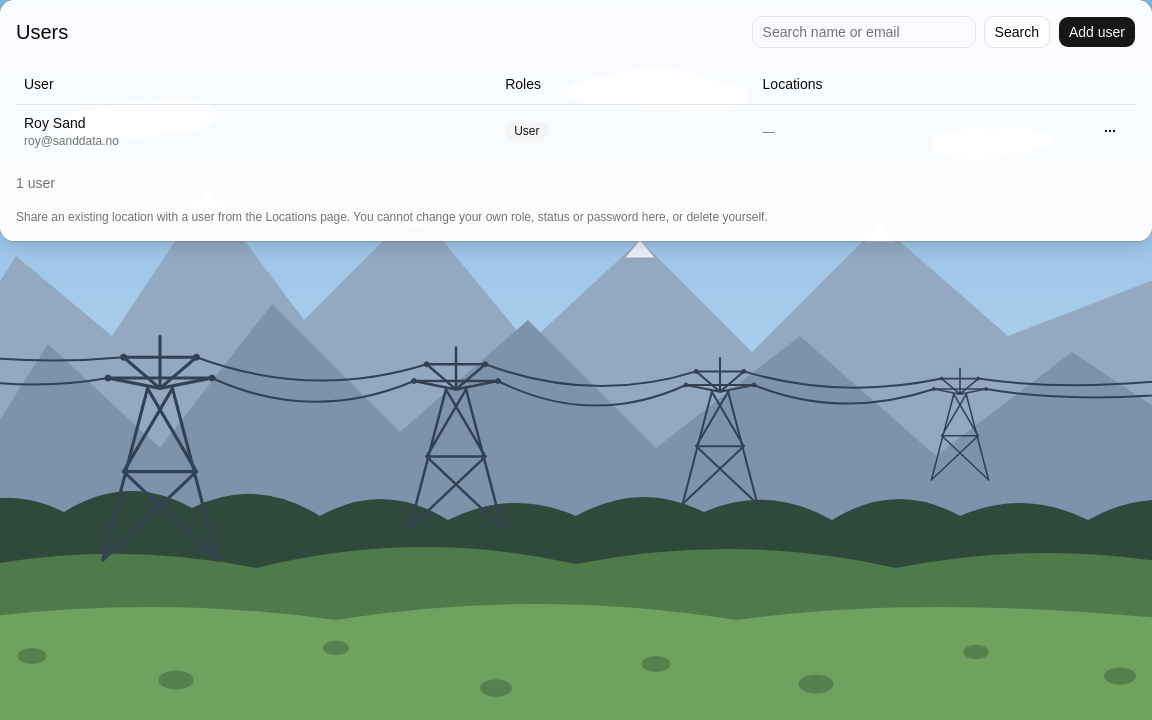
Test: UsersPage location actions › offers "Add location" for any user, including one without locations
Click the button named "Actions for roy@sanddata.no" at (1110, 130), box [1092,116,1128,144]
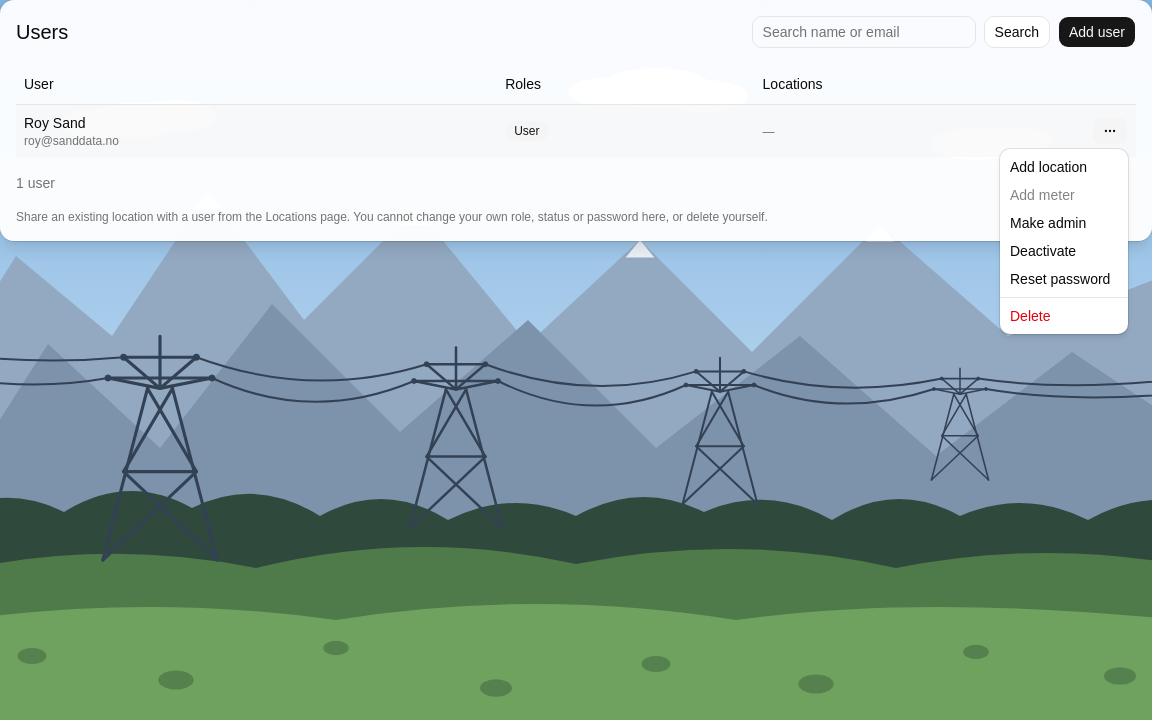
Result: the menu item "Add location" is shown at [1010,159,1087,175]
